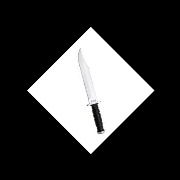k1: (76, 46, 103, 108)
